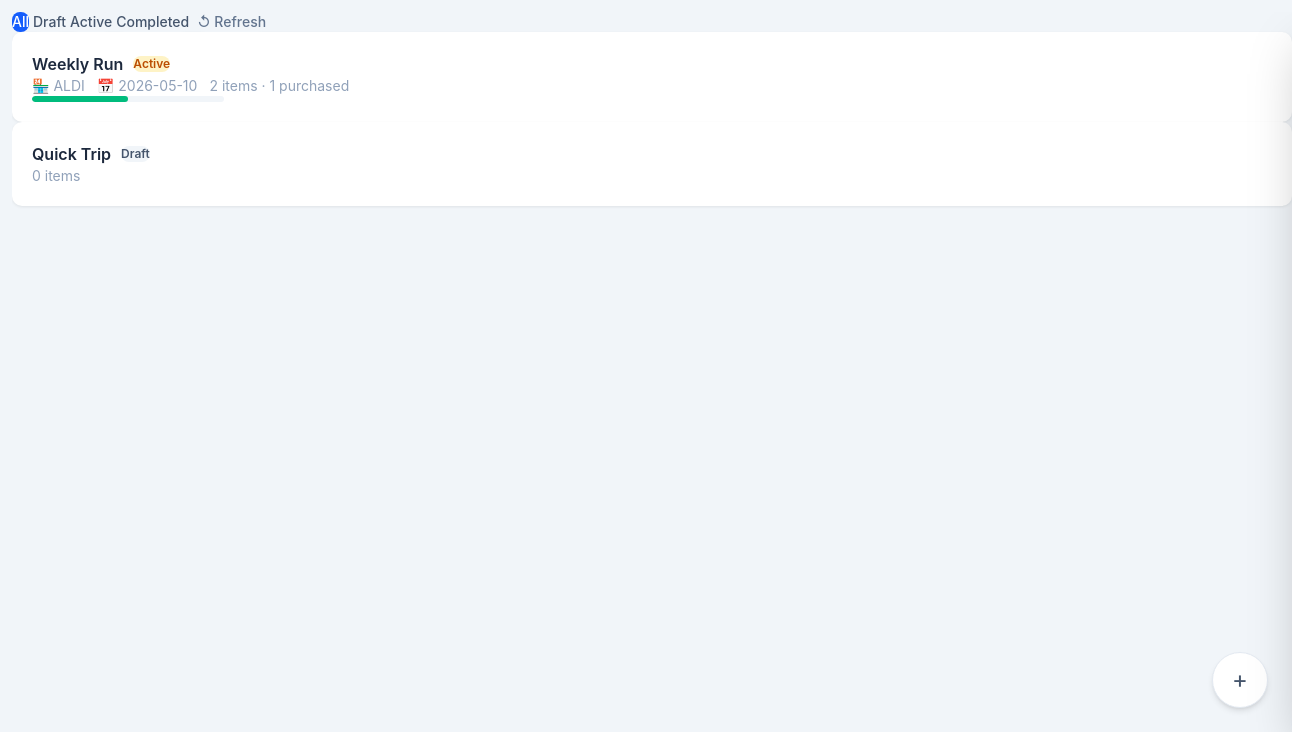
GroceryLists — status filter › shows all lists again when All is clicked after filtering
Expected: the text "Weekly Run" is shown, [32,52,123,76]
Click the button "Draft": (50, 22) [33,12,66,32]
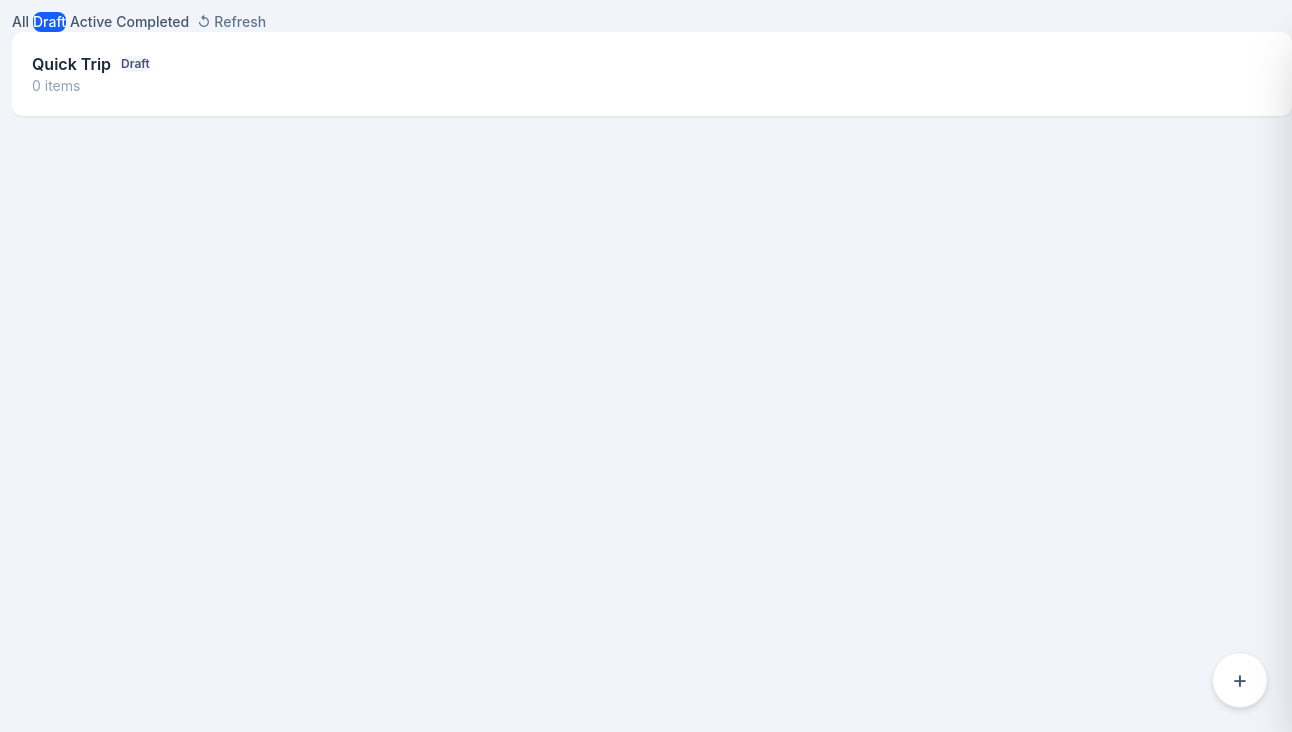
Click the button "All": (20, 22) [12,12,29,32]
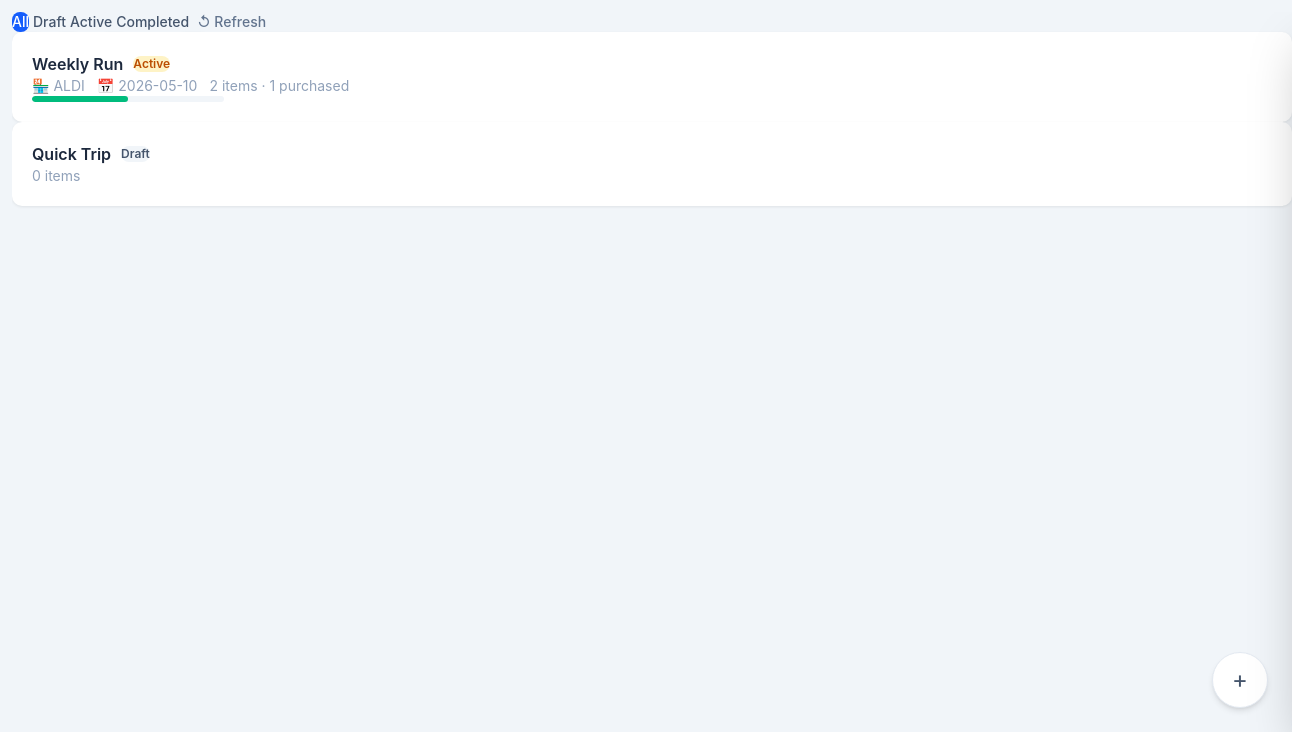
Expected: the text "Quick Trip" is shown, [32,142,111,166]
Expected: the text "Weekly Run" is shown, [32,52,123,76]
